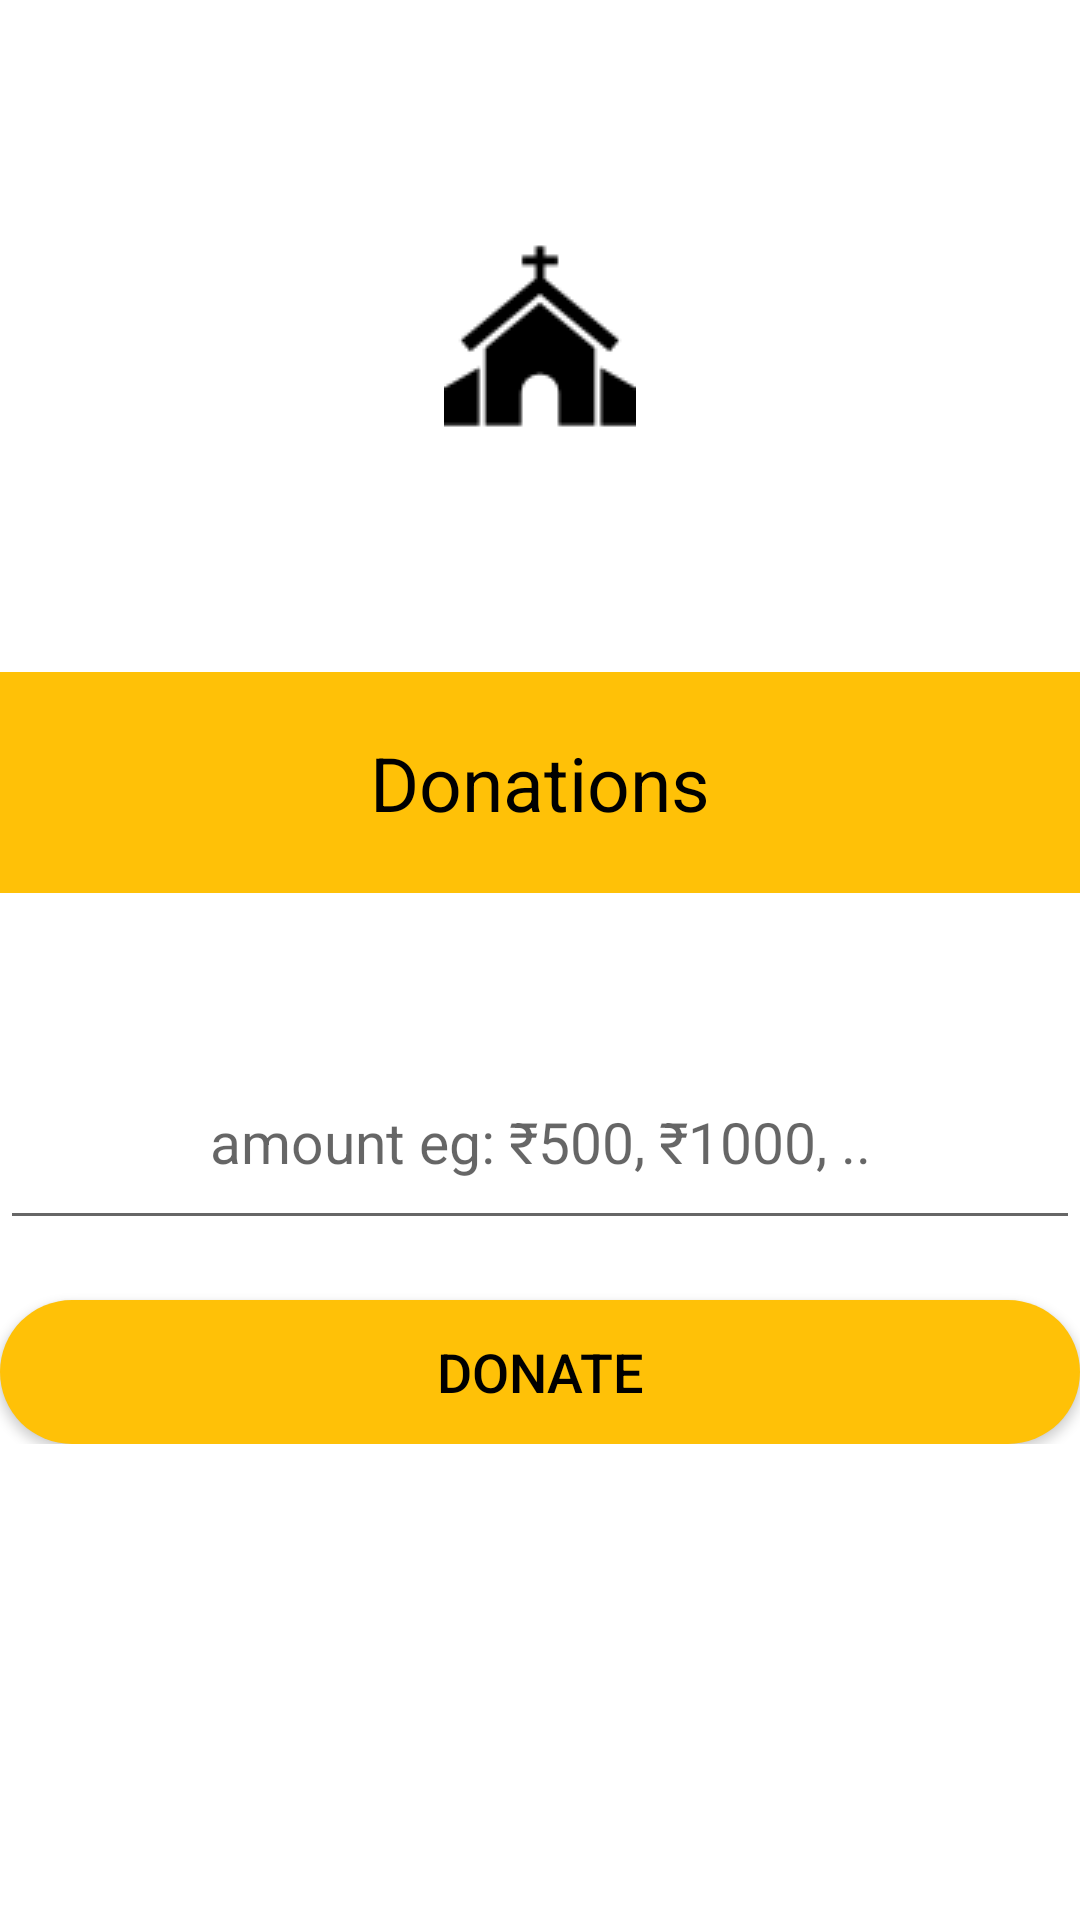

Locate icon controls on the screen. Image size 1080x1920, boxes as (x1, y1, x2, y2).
church: (444, 245, 636, 427)
